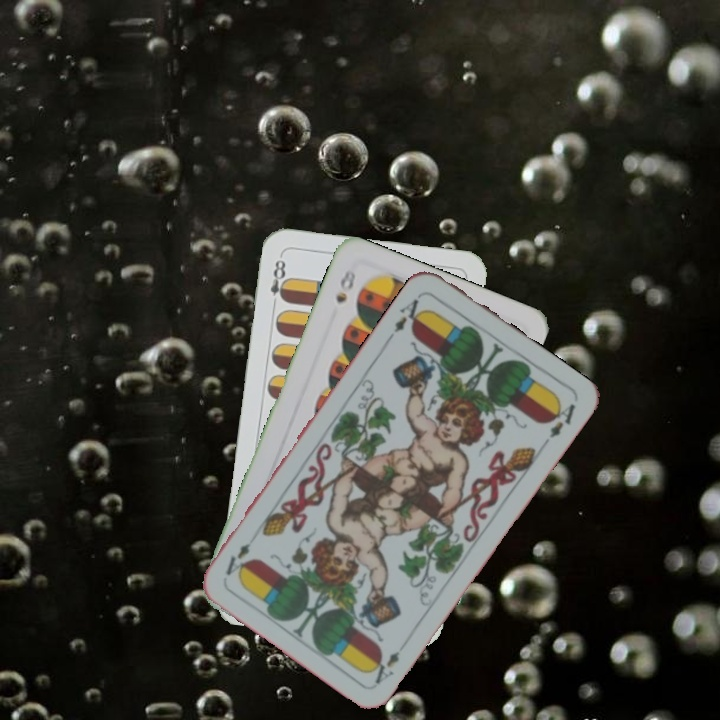E8: (266, 255, 291, 311)
EA: (390, 290, 429, 335), (365, 647, 403, 687)
S8: (331, 265, 359, 306)
